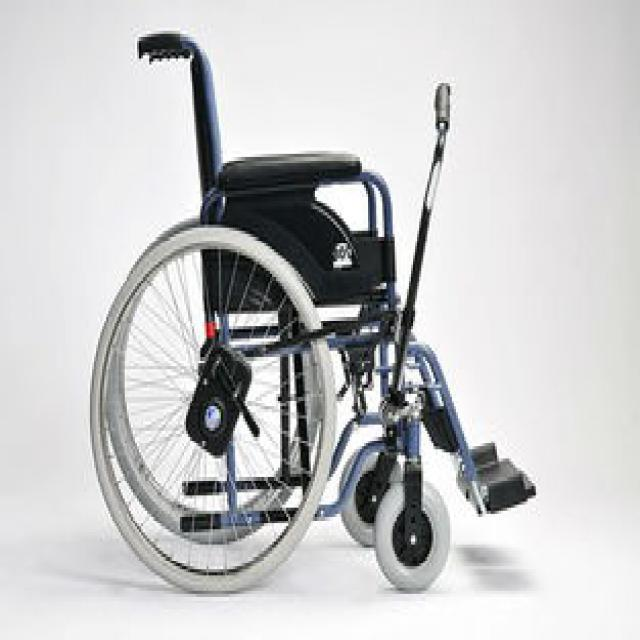wheelchair: (82, 24, 538, 618)
